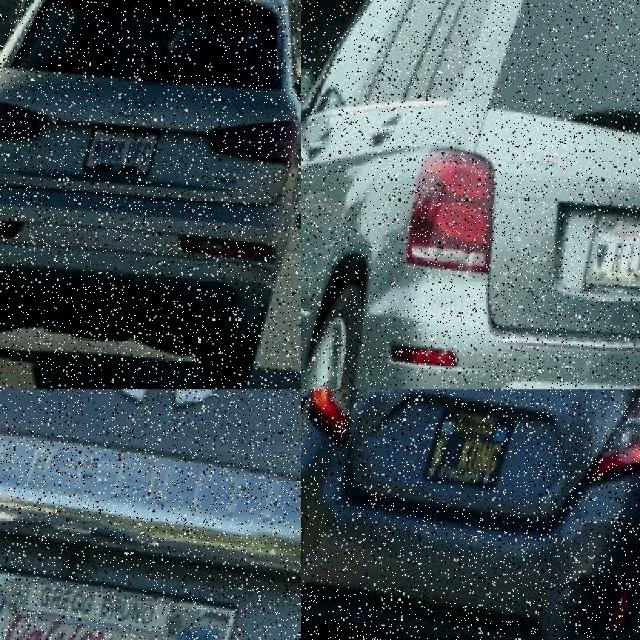licenseplate: (0, 549, 252, 640), (427, 402, 524, 503), (589, 209, 640, 300), (86, 129, 165, 183)
